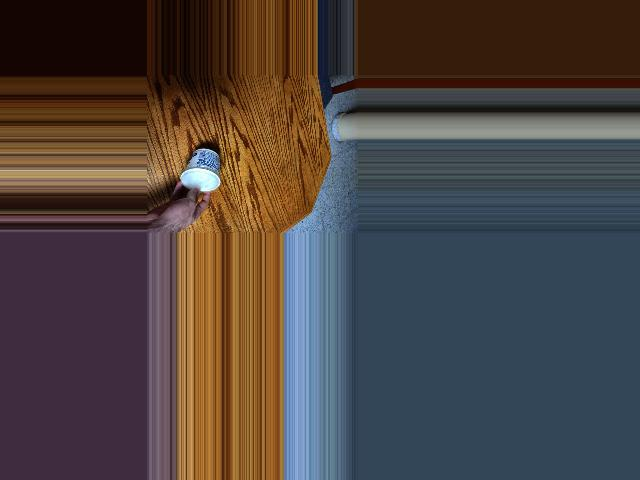cotage: (182, 147, 225, 189)
